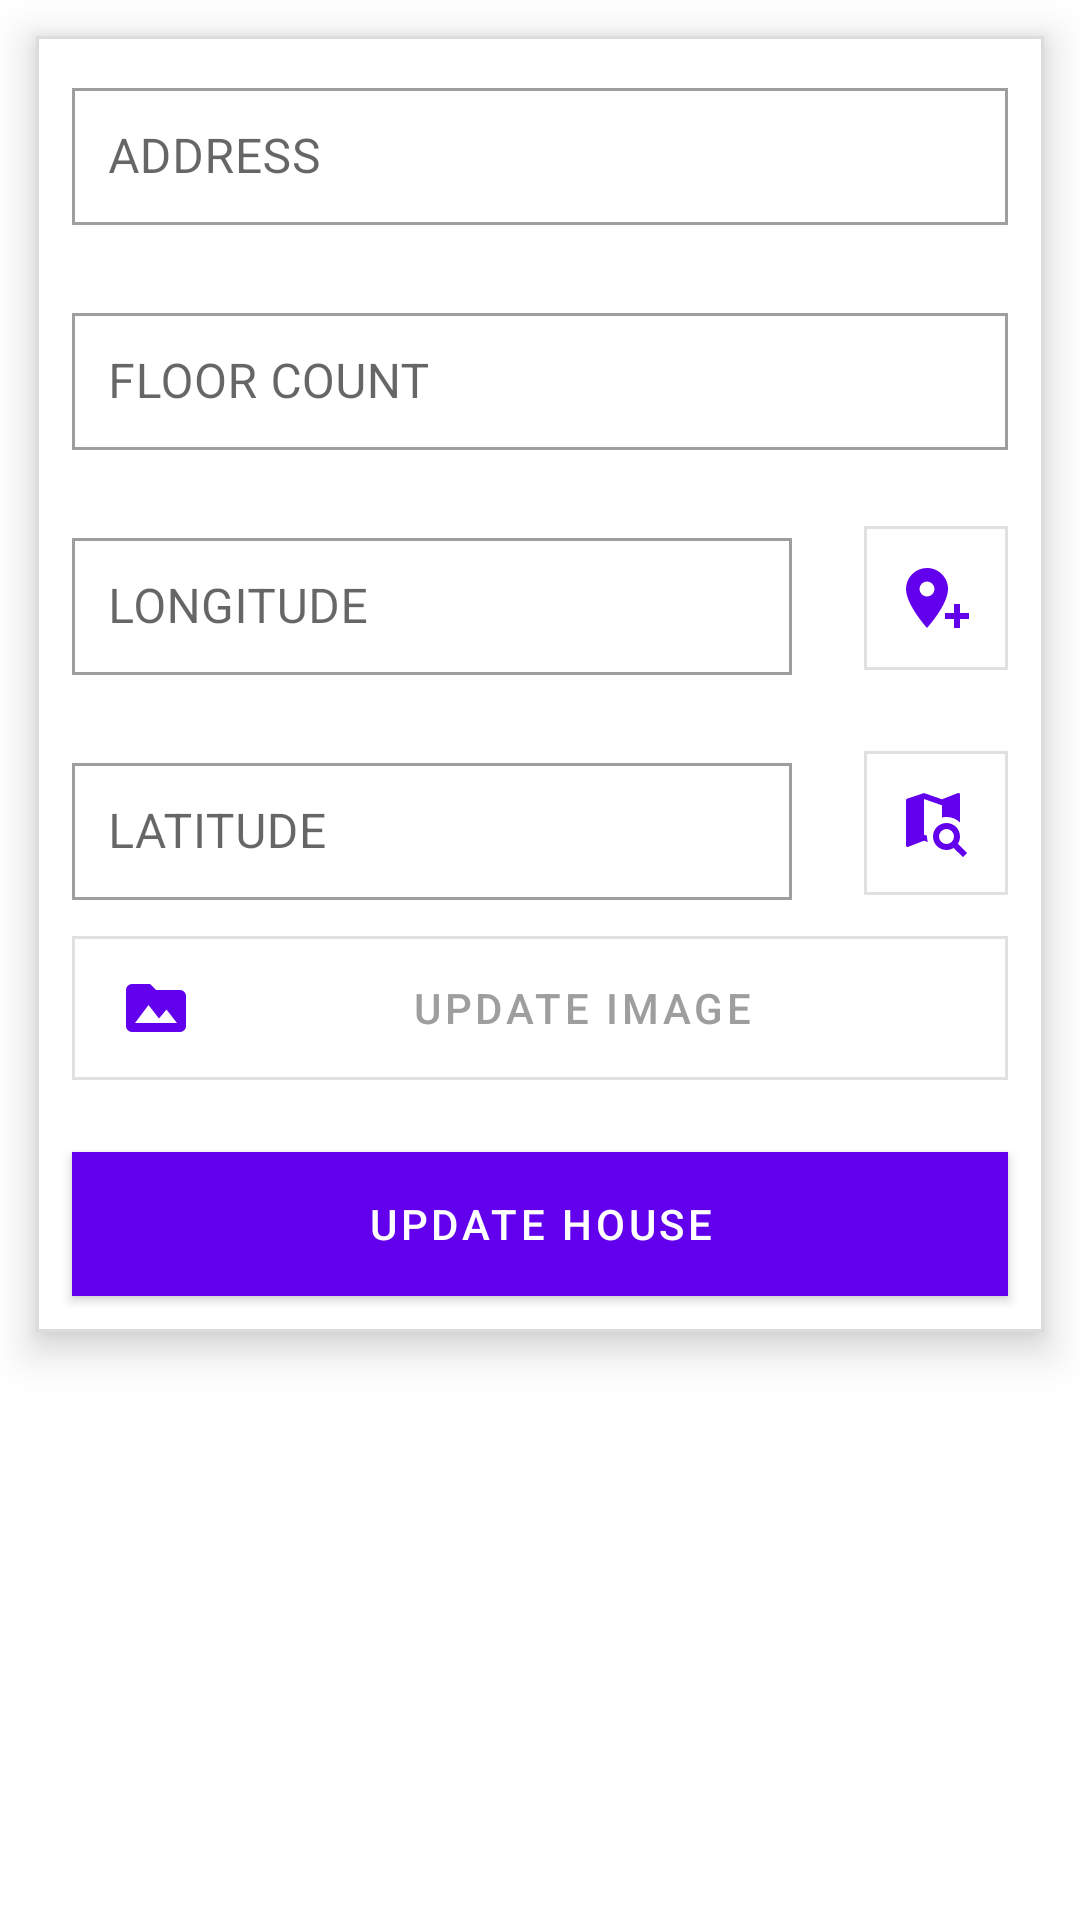

Locate icon controls on the screen. Image size 1080 × 1920, boxes as (x1, y1, x2, y2).
map marker plus: (864, 526, 1008, 670)
map search: (864, 751, 1008, 895)
